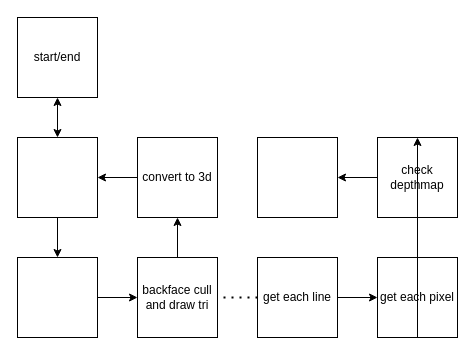
Image size: 475x363. Some labels were removed from this diagram. Each missing label, with the centre of its shape:
"draw pixel on depthmap and screen if closer" belongs at (x=297, y=177).
"get verts" belongs at (x=57, y=297).
"loop through tris" belongs at (x=57, y=177).
